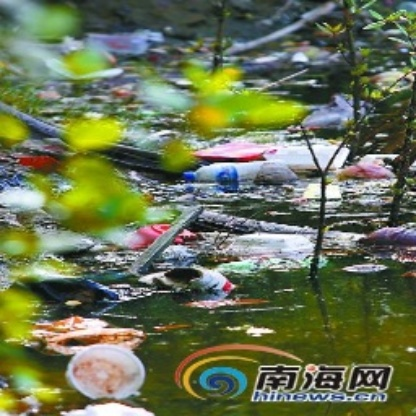bottle: (183, 161, 298, 188)
plastic-bag: (33, 314, 146, 345)
plastic-garbage: (64, 340, 151, 400)
